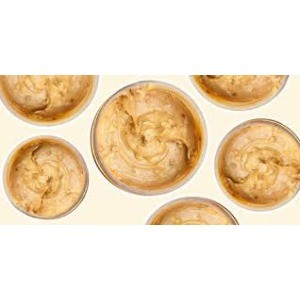peanut butter_brain food: (105, 100, 183, 186), (4, 141, 82, 213), (217, 131, 292, 199), (5, 82, 76, 126)
